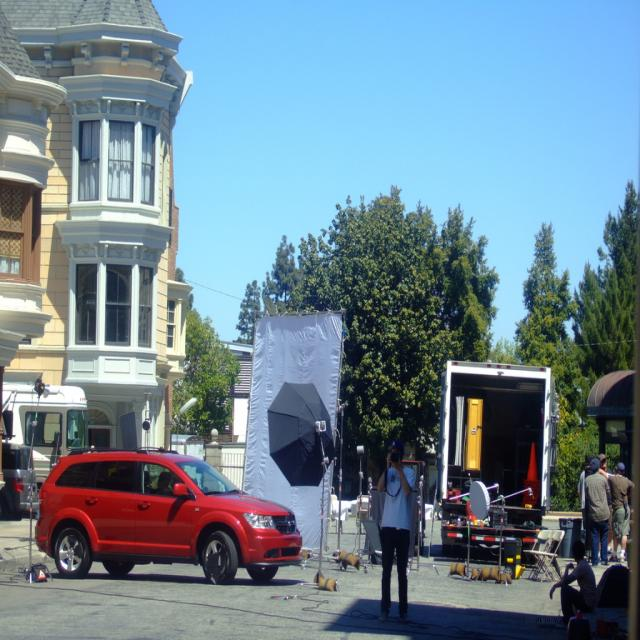other: (35, 447, 302, 574)
